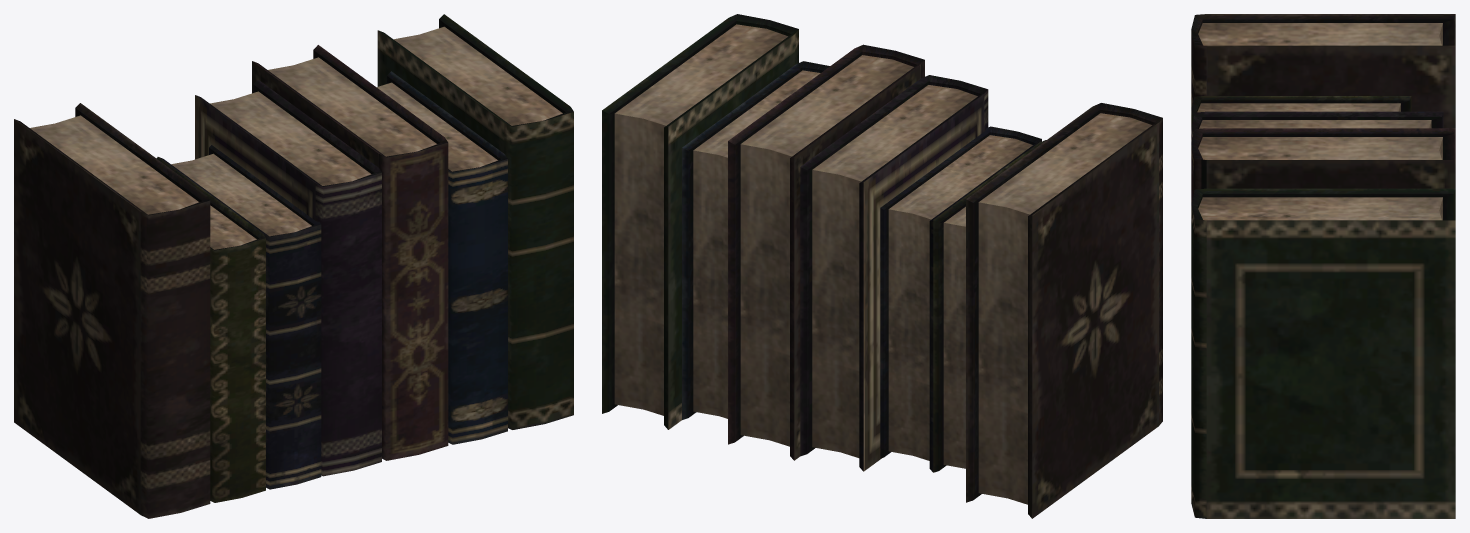
Rendered from book_row02.dae.
3 renders of one model, left to right at view 1: azimuth 30°, elevation 25°; view 2: azimuth 150°, elevation 25°; view 3: azimuth 270°, elevation 25°, orthographic.
Visible parts, largest first — view 1: polySurface1; view 2: polySurface1; view 3: polySurface1.
Boxes of the visible parts, left/top/right/bottom form: polySurface1: left=14, top=14, right=573, bottom=518; polySurface1: left=602, top=14, right=1162, bottom=518; polySurface1: left=1191, top=14, right=1455, bottom=518.
Size of the model in its own units: 0.519 by 0.35 by 0.2811.
